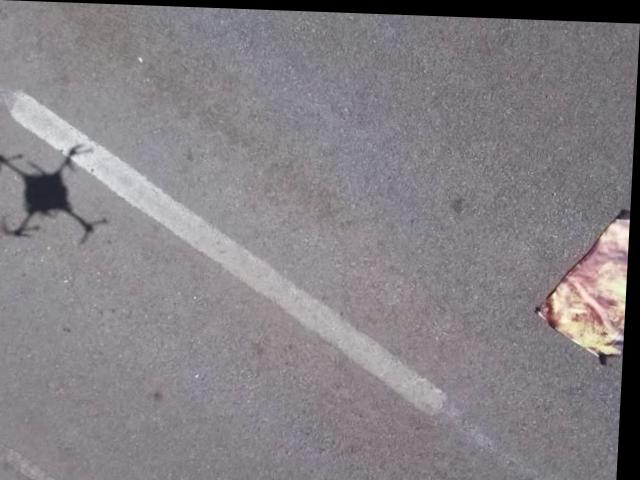fire-poster: (535, 200, 633, 365)
